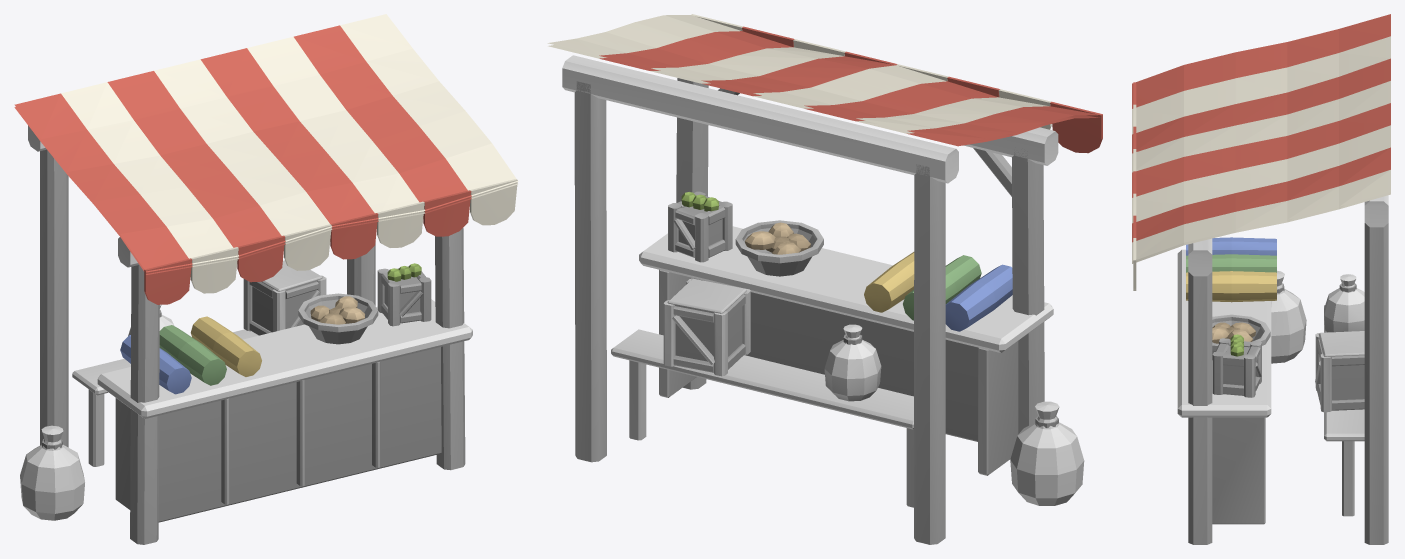
File: market_stall_b.glb
3 renders of one model, left to right at view 1: azimuth 30°, elevation 25°; view 2: azimuth 150°, elevation 25°; view 3: azimuth 270°, elevation 25°, orthographic. The views are drawn at different scales.
Visible parts, largest first — view 1: apple; view 2: apple; view 3: apple.
Part boxes in pixels (box(x1,y1,x2,y2)): apple: box(14, 14, 518, 544); apple: box(547, 14, 1102, 544); apple: box(1132, 14, 1390, 544).
Size of the model in its own units: 3.36 by 2.82 by 1.82.
